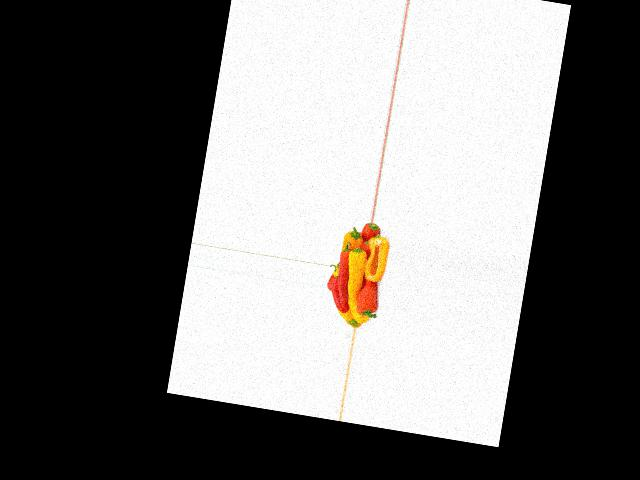bell_pepper: (355, 220, 381, 253)
